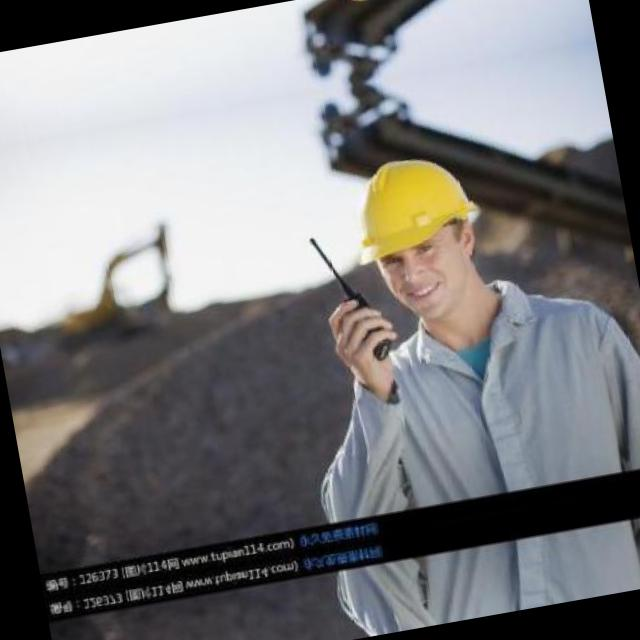helmet: (324, 120, 508, 351)
